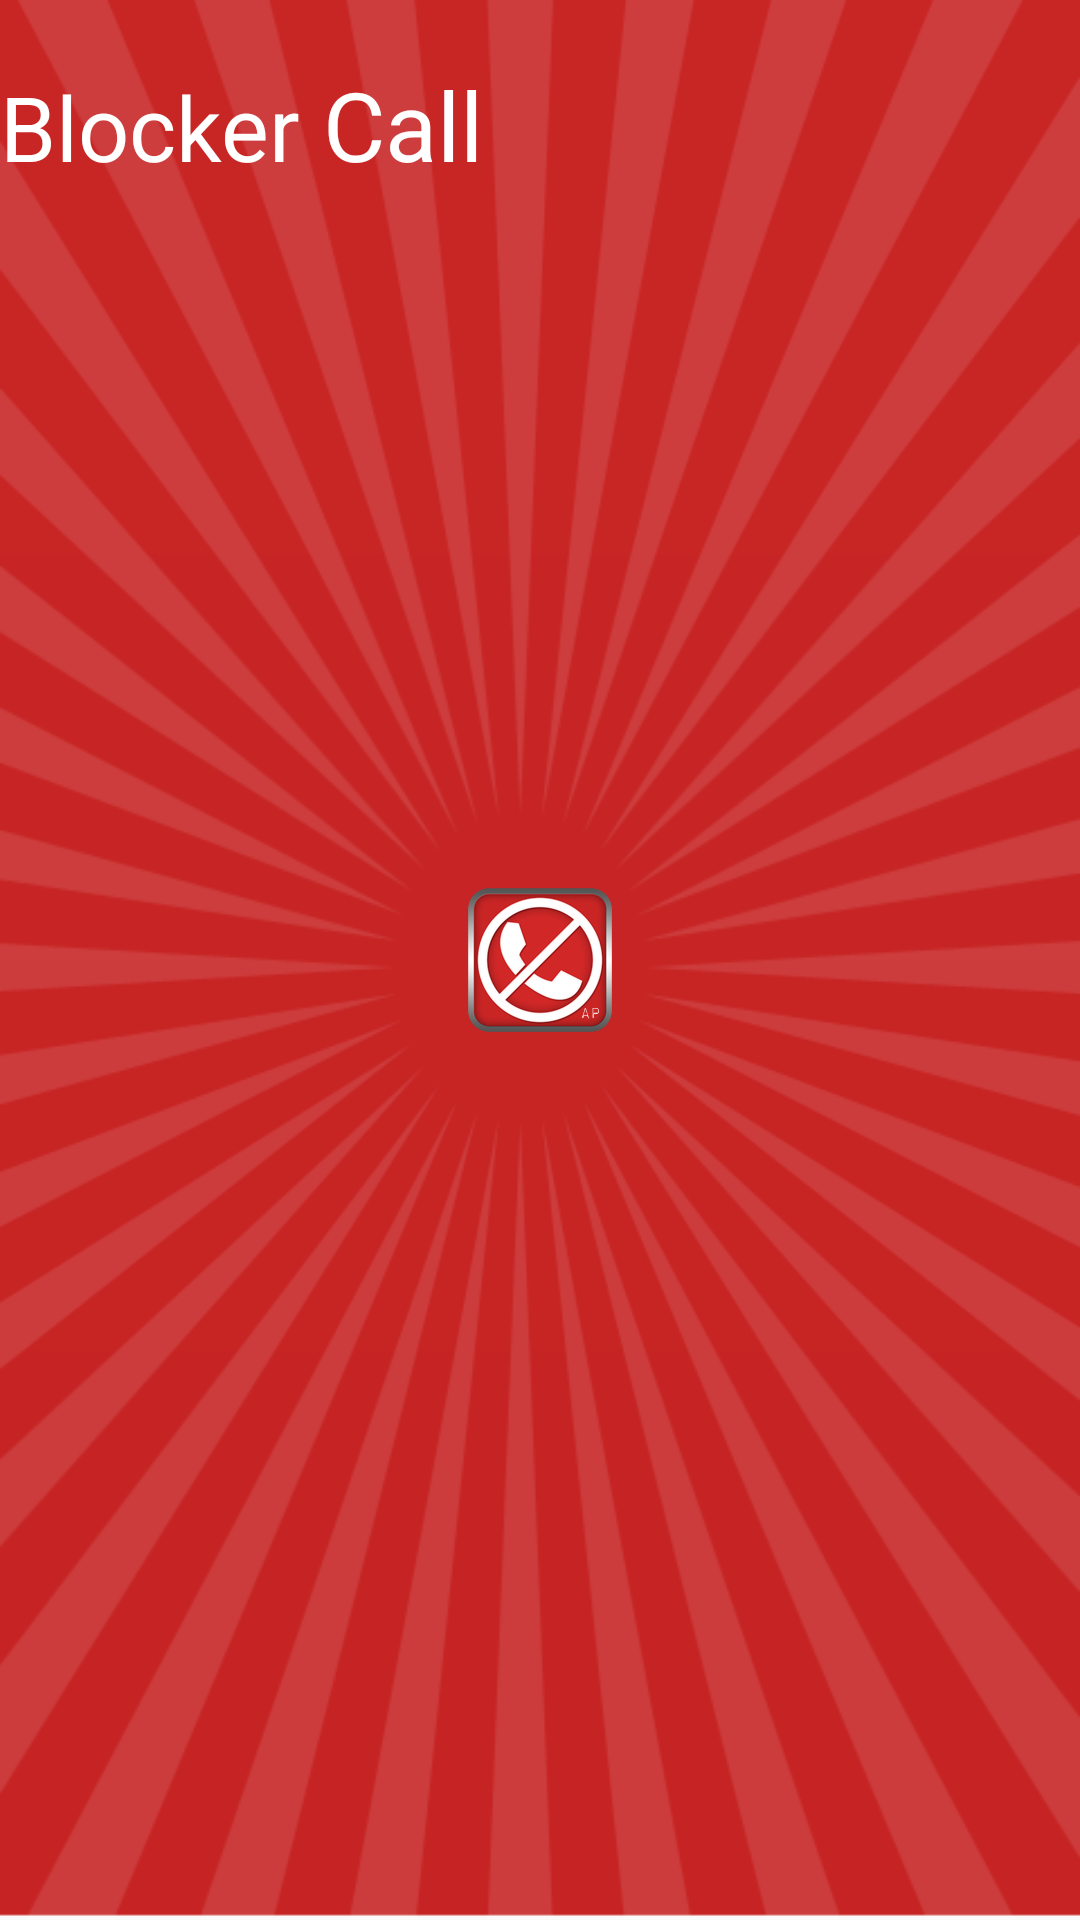

Where to tap for icons on this 1080px×1920px app screen, as (x,y):
lounchicon: (540,960)
